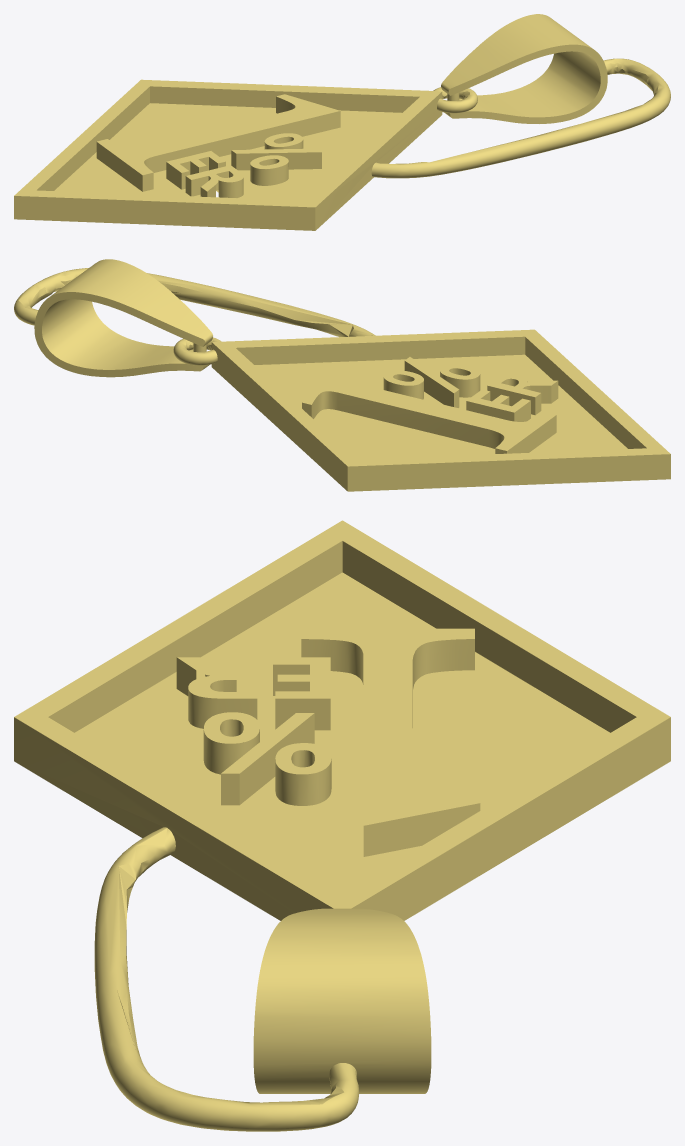
Rendered from 1euro.glb.
3 renders of one model, top to bottom at view 1: azimuth 30°, elevation 25°; view 2: azimuth 150°, elevation 25°; view 3: azimuth 270°, elevation 25°, orthographic. The views are drawn at different scales.
Parts seen in each view (by area): view 1: Renderer Node; view 2: Renderer Node; view 3: Renderer Node.
Part boxes in pixels (box(x1,y1,x2,y2)): Renderer Node: box(14, 14, 670, 230); Renderer Node: box(14, 259, 670, 491); Renderer Node: box(14, 520, 670, 1131).
Bounding box in the file's own units: 58.77 × 6.91 × 28.57.
